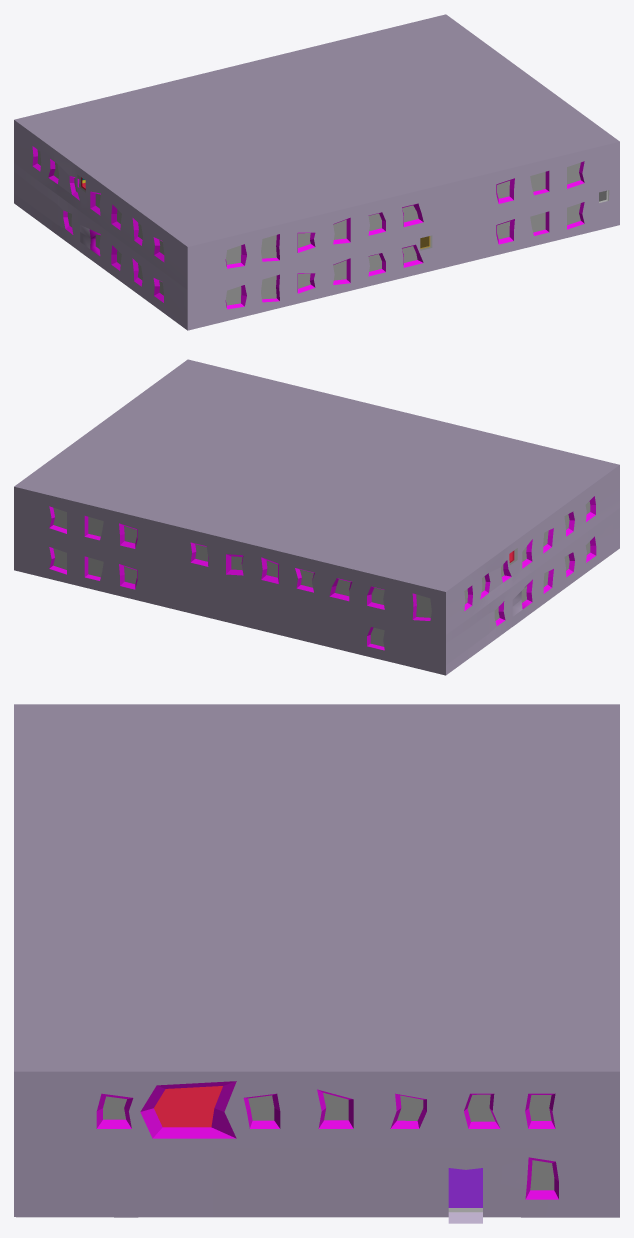
The model's file is SM_SchoolBuilding_4.1.fbx.
3 views of the same model, one above another, from view 1: azimuth 30°, elevation 25°; view 2: azimuth 150°, elevation 25°; view 3: azimuth 270°, elevation 25° (orthographic). The views are drawn at different scales.
Visible parts, largest first — view 1: SM_SchoolBuilding_4_1, SM_WindowPlaner_4_1; view 2: SM_SchoolBuilding_4_1, SM_WindowPlaner_4_1; view 3: SM_SchoolBuilding_4_1, SM_WindowPlaner_4_1, SM_SecondFloorFloor_4_1.
Boxes of the visible parts, <box> form: SM_SchoolBuilding_4_1: <box>14,14,619,330</box>; SM_WindowPlaner_4_1: <box>37,150,609,305</box>; SM_SchoolBuilding_4_1: <box>14,359,619,675</box>; SM_WindowPlaner_4_1: <box>53,501,590,646</box>; SM_SchoolBuilding_4_1: <box>14,704,619,1223</box>; SM_WindowPlaner_4_1: <box>103,1092,554,1190</box>; SM_SecondFloorFloor_4_1: <box>154,1086,222,1127</box>.
Size of the model in its own units: 5663 by 1042 by 3880.
